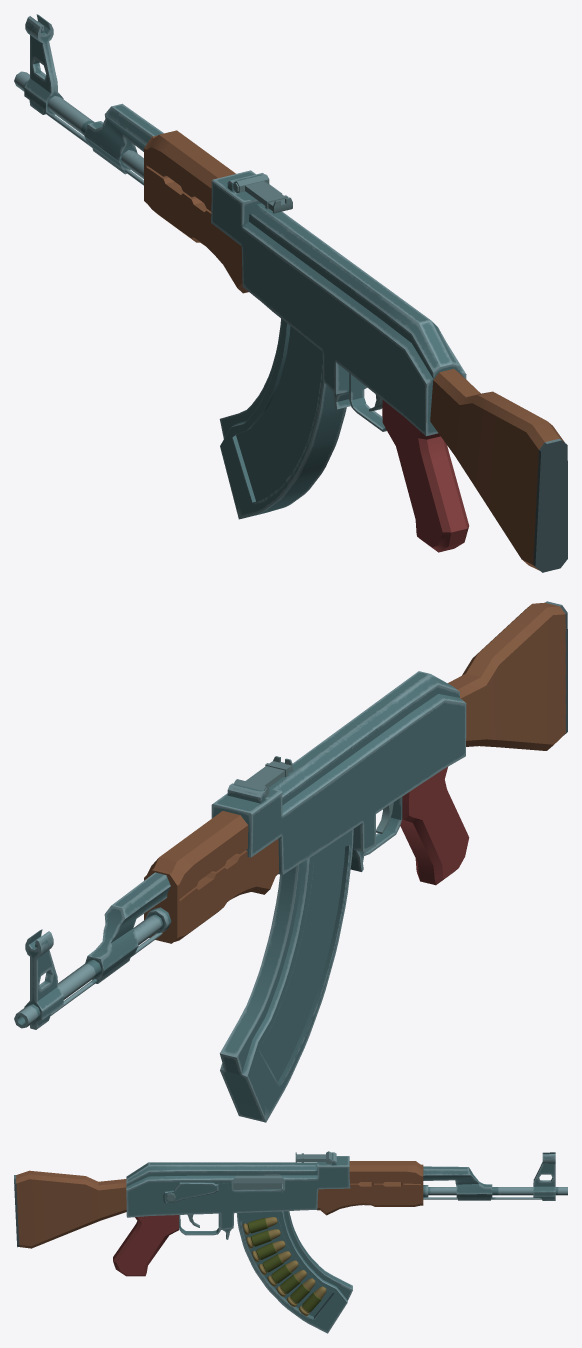
The picture shows the model from 3 angles, top to bottom: view 1: azimuth 30°, elevation 25°; view 2: azimuth 150°, elevation 25°; view 3: azimuth 270°, elevation 25°; orthographic projection. The views are drawn at different scales.
Parts seen in each view (by area): view 1: AK_47, clip; view 2: AK_47, clip; view 3: AK_47, clip, culasse, bullet-1.018, bullet-1.017, bullet-1.019, bullet-1.016, bullet-1.015, bullet-1.012, bullet-1.013, bullet-1.014.
Part boxes in pixels (x1=…): AK_47: x1=14, y1=14, x2=567, y2=572; clip: x1=219, y1=318, x2=346, y2=519; AK_47: x1=14, y1=601, x2=567, y2=1029; clip: x1=219, y1=829, x2=353, y2=1122; AK_47: x1=14, y1=1151, x2=567, y2=1276; clip: x1=236, y1=1183, x2=352, y2=1333; culasse: x1=233, y1=1175, x2=283, y2=1192; bullet-1.018: x1=246, y1=1229, x2=280, y2=1248; bullet-1.017: x1=251, y1=1240, x2=285, y2=1262; bullet-1.019: x1=242, y1=1217, x2=277, y2=1235; bullet-1.016: x1=258, y1=1251, x2=291, y2=1275; bullet-1.015: x1=267, y1=1260, x2=298, y2=1286; bullet-1.012: x1=298, y1=1286, x2=326, y2=1315; bullet-1.013: x1=286, y1=1278, x2=315, y2=1306; bullet-1.014: x1=276, y1=1270, x2=306, y2=1296.
Bounding box in the file's own units: 0.391 × 2.34 × 6.63.
